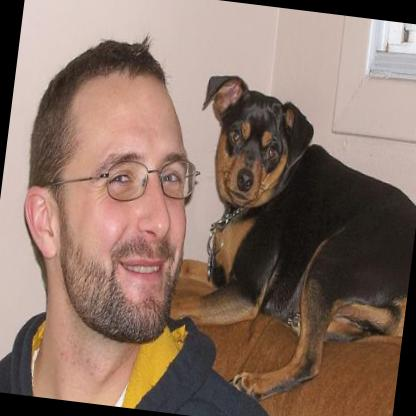miniature_pinscher: (164, 67, 416, 416)
